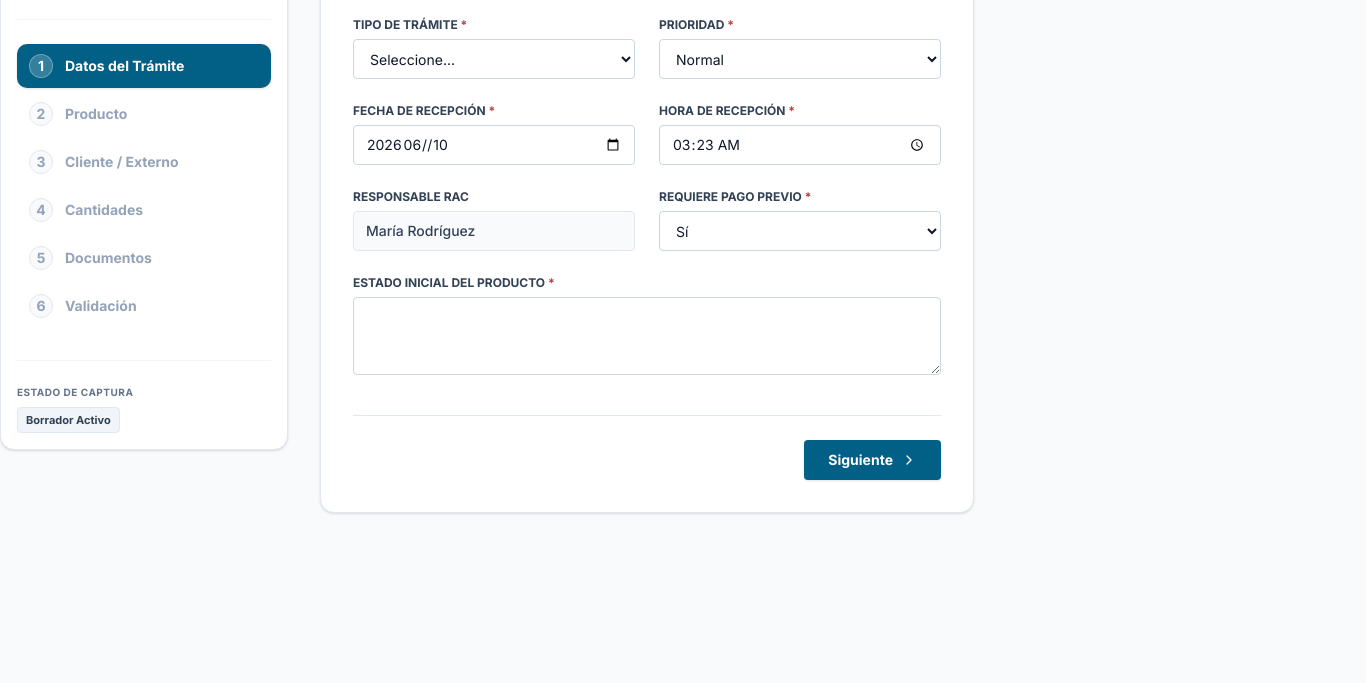
it: NuevoIngresoRAC — /rac/nuevo › Paso 5 — tabla de documentos (estructura) › renders docs-table on step 5
Click the button "Siguiente".
click(873, 460)  # box [804,440,941,480]
(page scrolled)
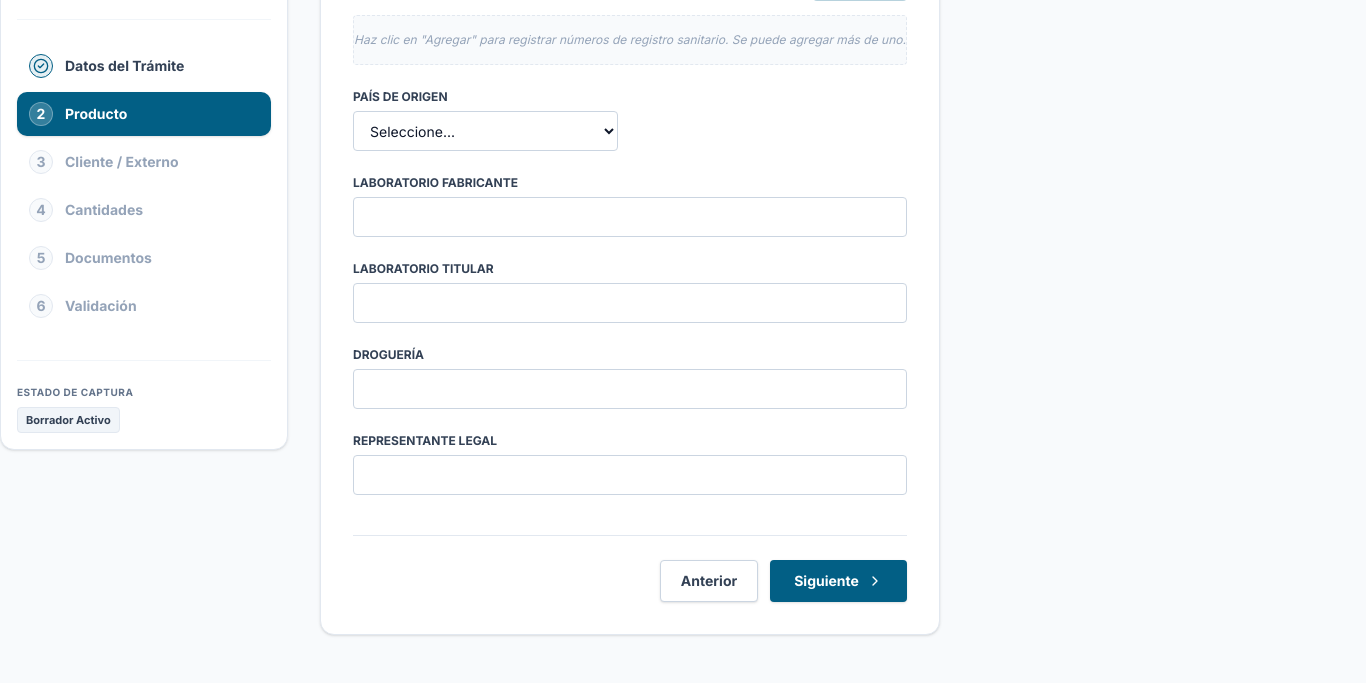
Click the button "Siguiente".
click(839, 581)  # box [770,560,907,602]
(page scrolled)
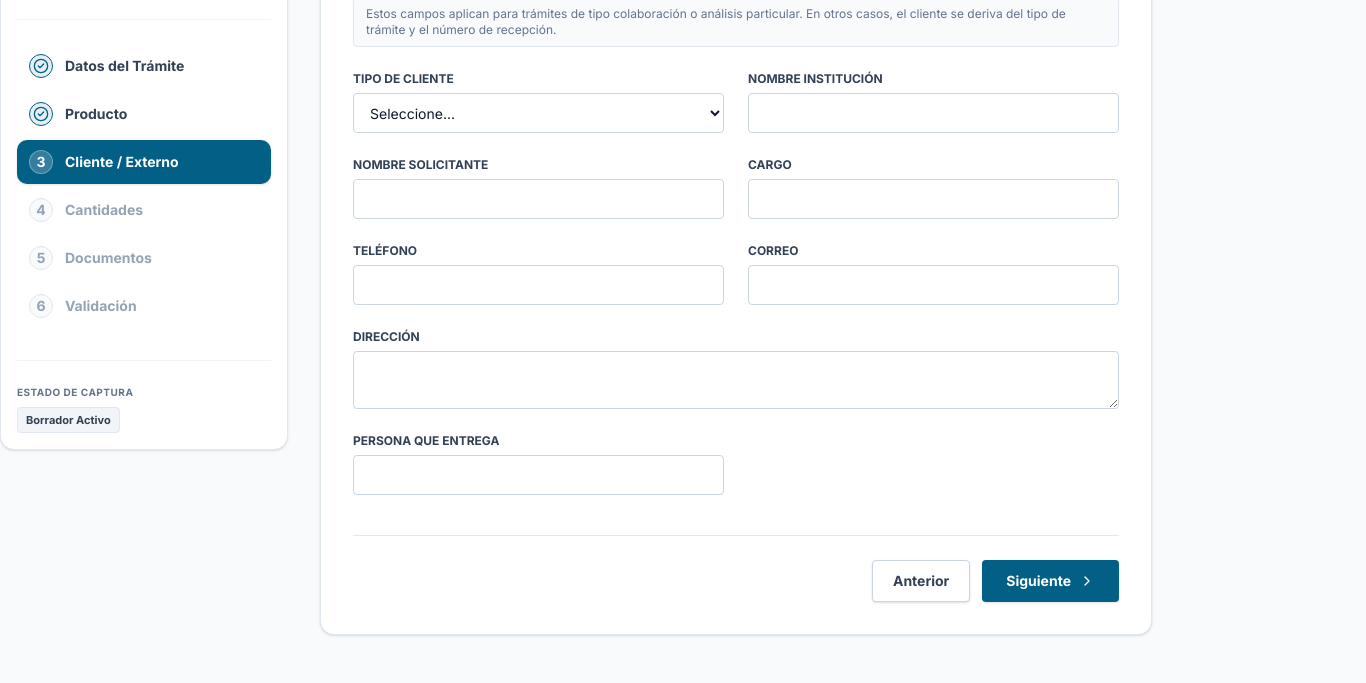
Click the button "Siguiente".
click(1051, 581)  # box [982,560,1119,602]
(page scrolled)
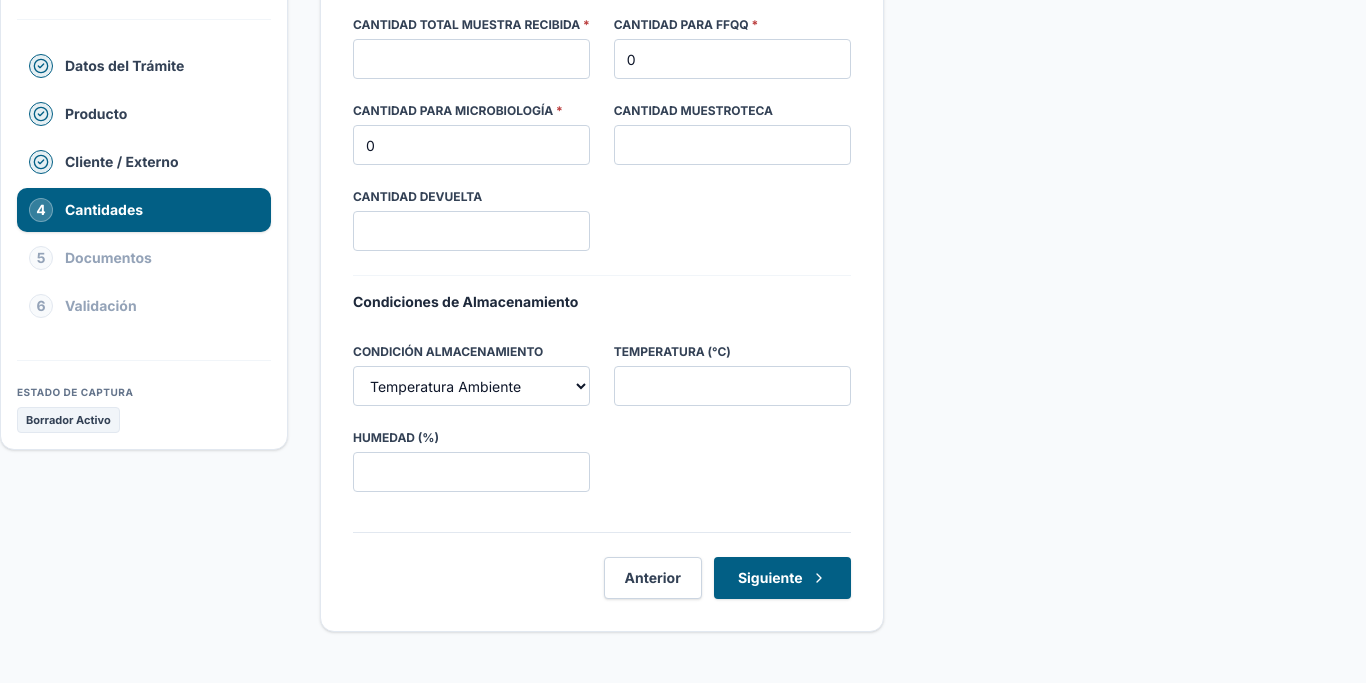
Click the button "Siguiente".
click(782, 578)  # box [714,557,851,599]
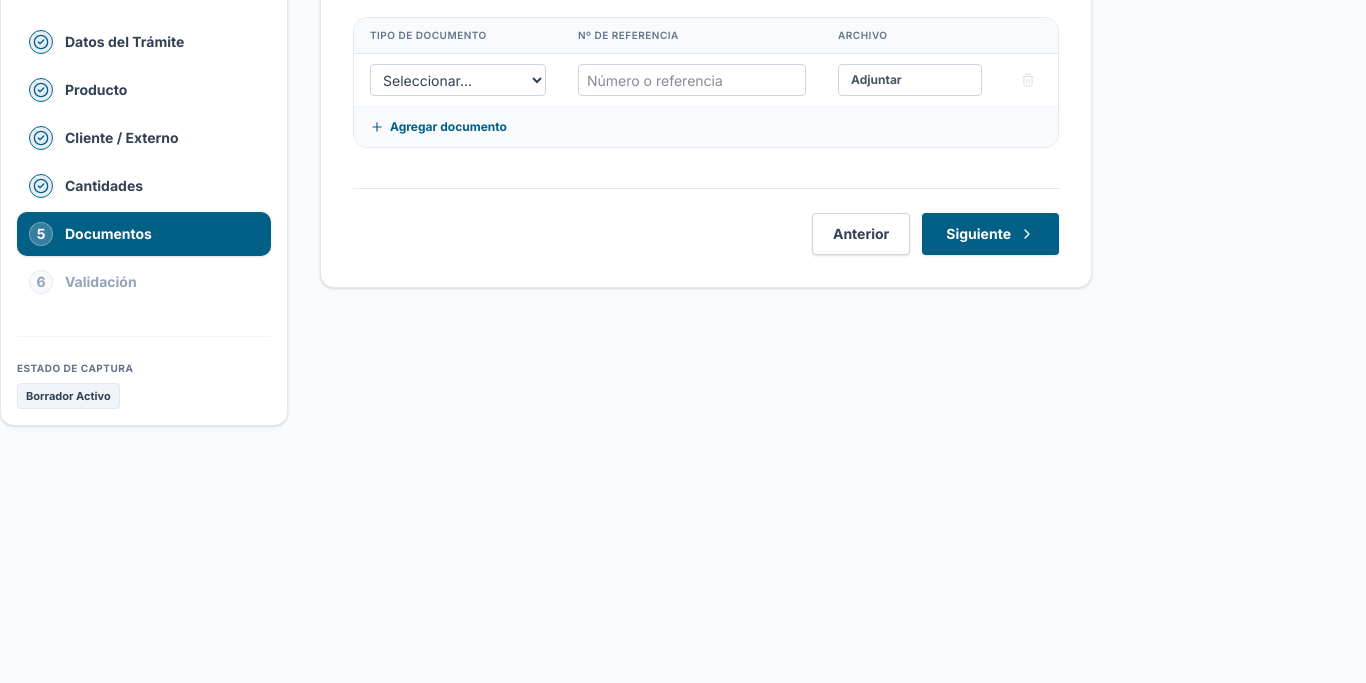
Result: the element with test id "docs-table" is shown at [353,17,1059,148]
